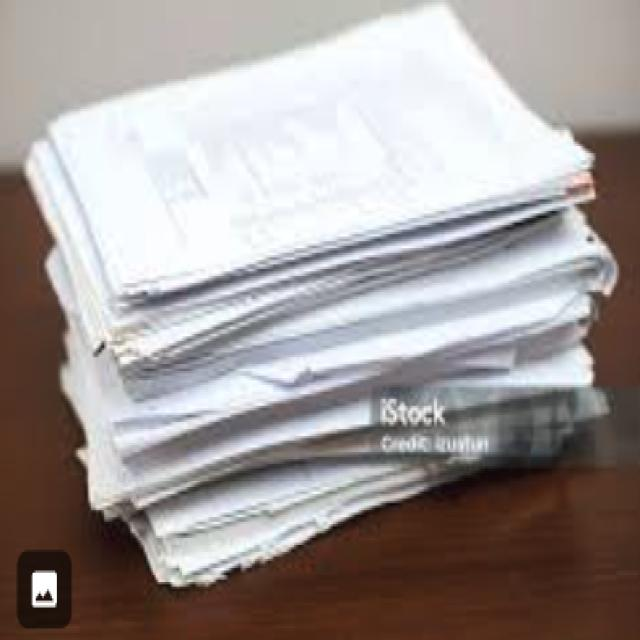KertasBekas: (21, 0, 619, 589)
